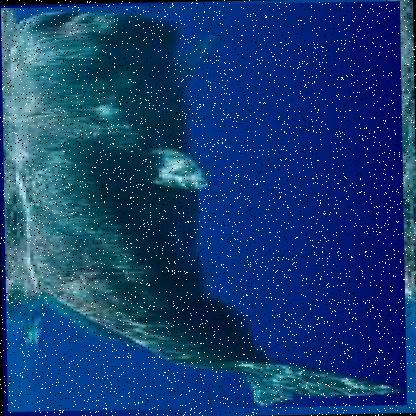sperm_whale: (0, 0, 407, 412)
